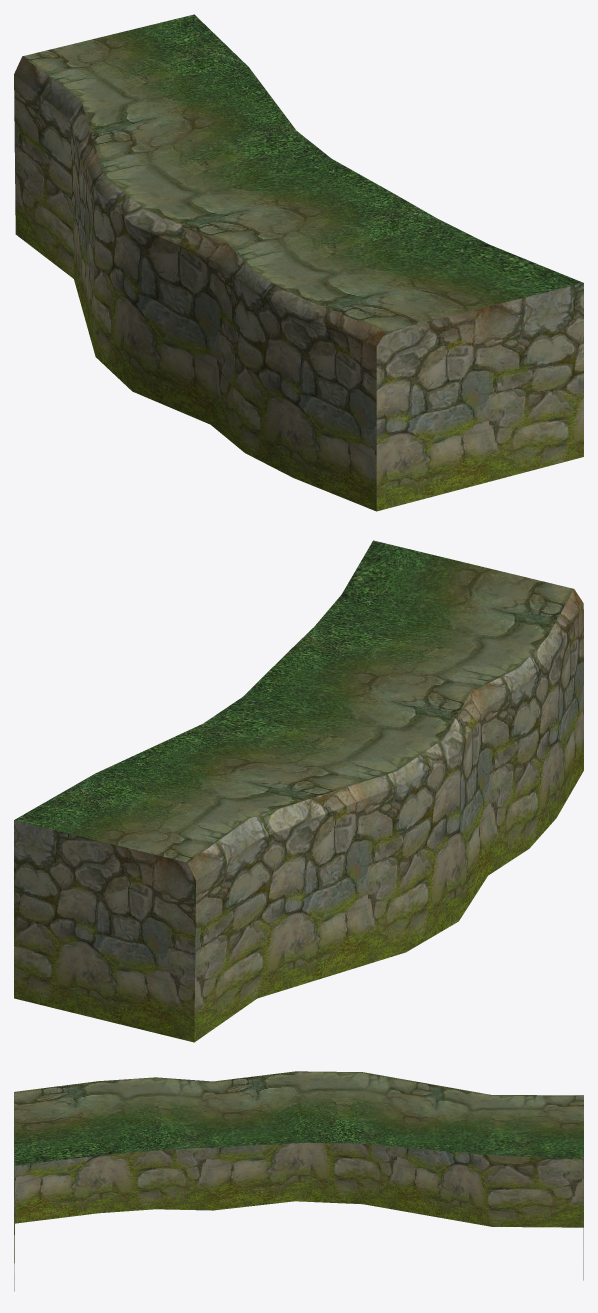
Rendered from Hangzhou_wj_020_1.FBX.
The picture shows the model from 3 angles, top to bottom: view 1: azimuth 30°, elevation 25°; view 2: azimuth 150°, elevation 25°; view 3: azimuth 270°, elevation 25°; orthographic projection. The views are drawn at different scales.
Visible parts, largest first — view 1: Object05; view 2: Object05; view 3: Object05.
Part boxes in pixels (bbox=[...]): Object05: bbox=[14, 14, 583, 511]; Object05: bbox=[14, 540, 583, 1042]; Object05: bbox=[14, 1071, 583, 1291].
Size of the model in its own units: 16.92 by 10.69 by 40.79.
